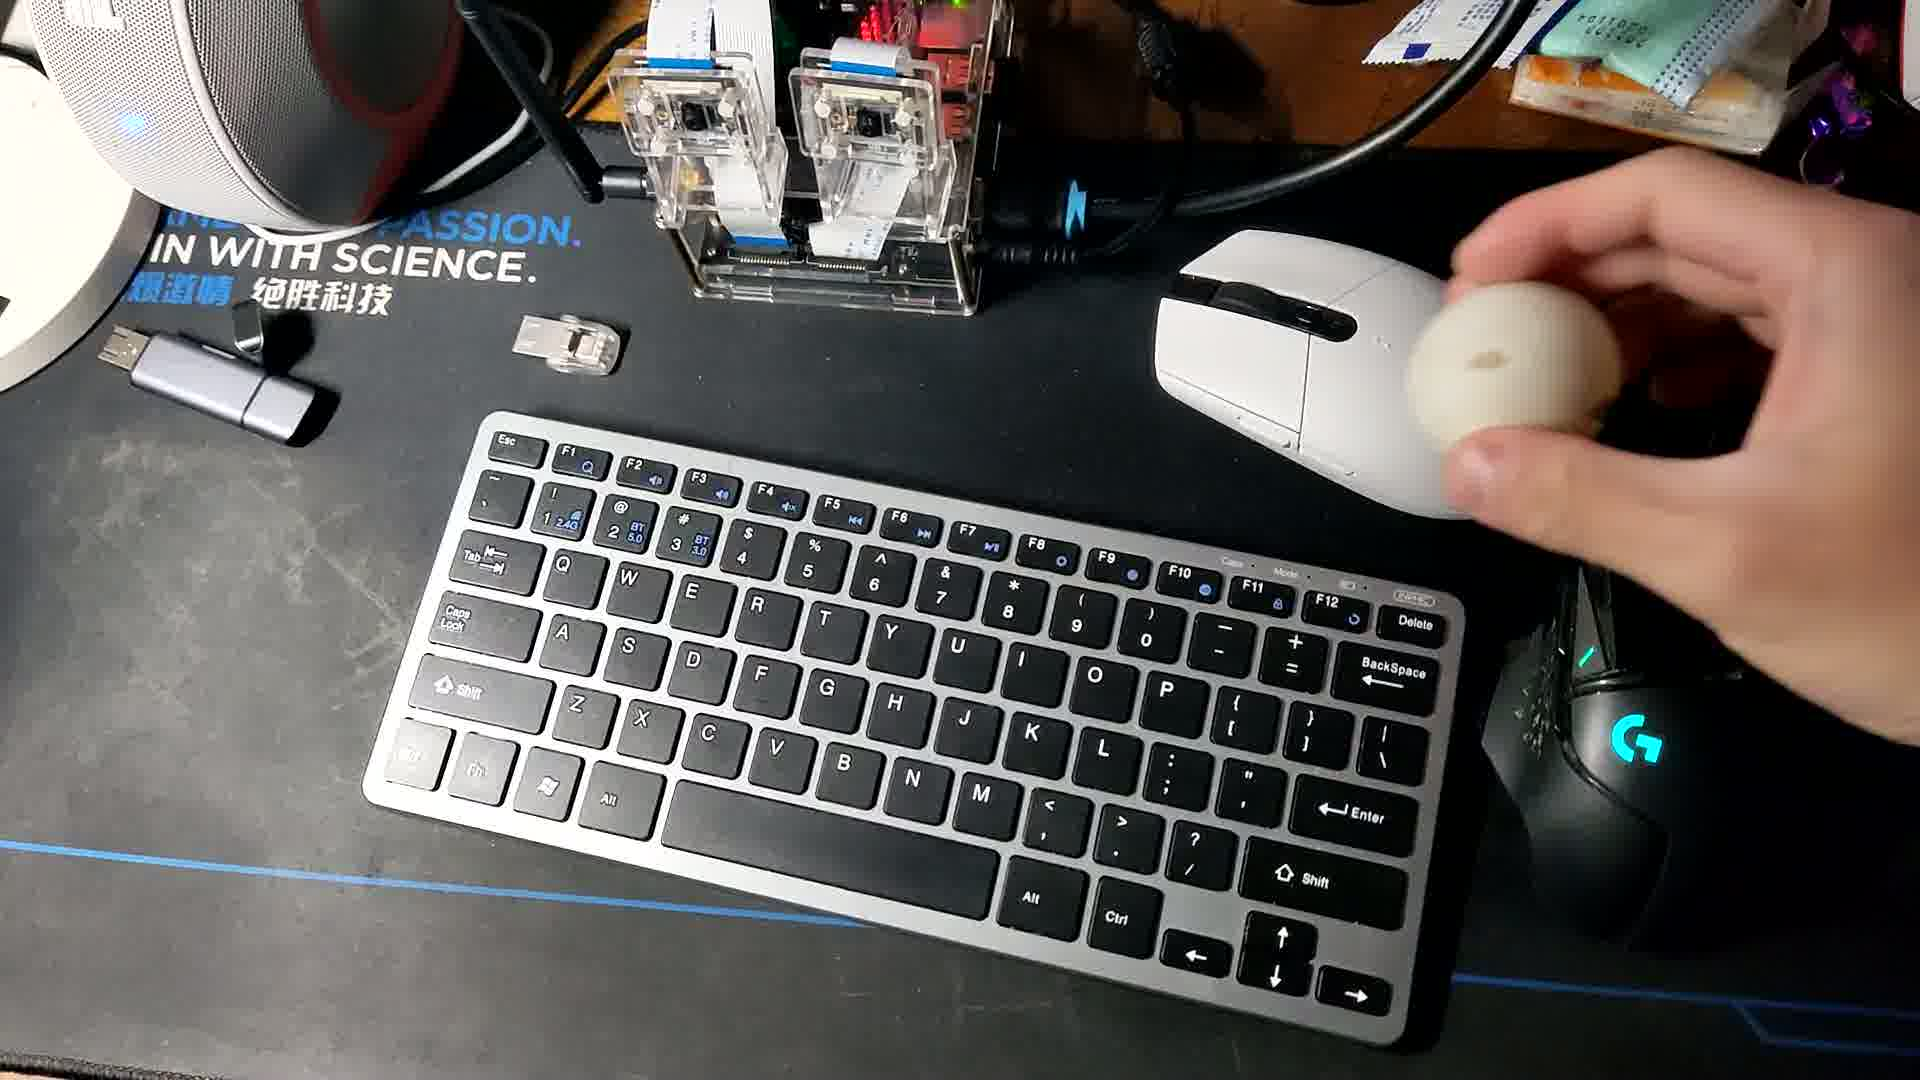Ball: (1403, 280, 1625, 496)
